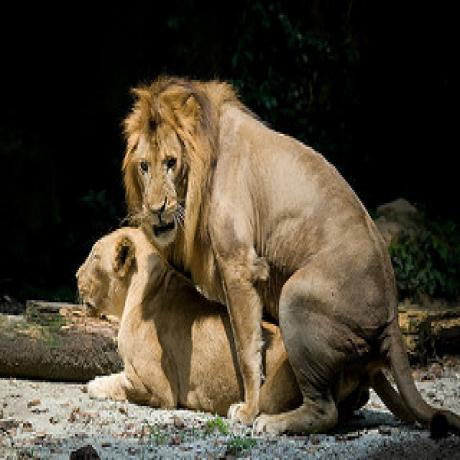Lion: (122, 71, 460, 442), (72, 228, 300, 420)
